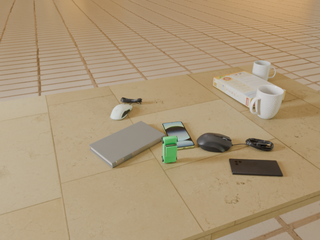book: (89, 121, 166, 168)
box: (213, 71, 286, 107)
cup: (249, 85, 284, 119), (252, 61, 275, 81)
mouse: (197, 133, 233, 152), (111, 104, 132, 120)
phone: (229, 159, 283, 176), (162, 122, 194, 149)
toy_car: (162, 135, 178, 163)
